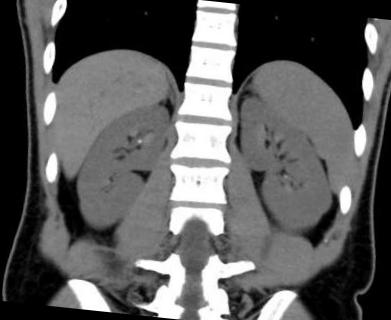Tas_Var: (134, 137, 144, 146), (282, 174, 287, 178)
